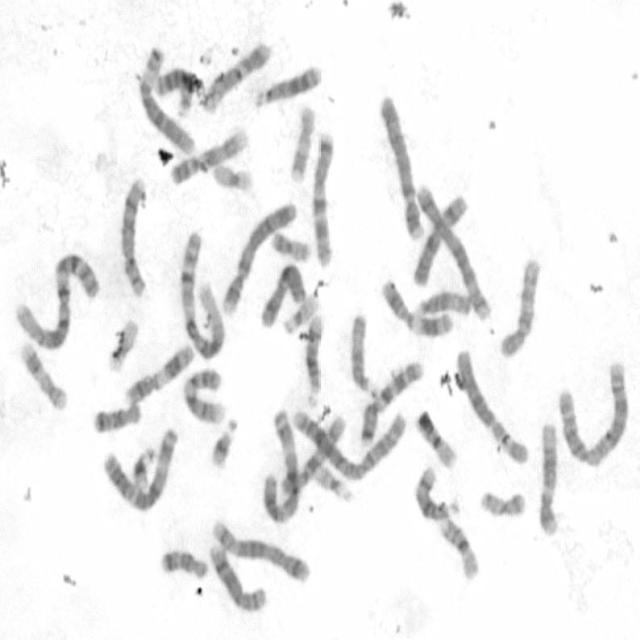A1: (12, 248, 102, 351), (177, 227, 226, 361)
A2: (288, 404, 408, 481), (554, 356, 630, 470)
A3: (99, 422, 180, 514), (258, 405, 301, 525)
B4: (218, 196, 298, 316), (378, 90, 424, 245)
B5: (413, 181, 492, 322), (210, 516, 311, 584)
C10: (278, 411, 348, 496), (496, 252, 542, 359)
C11: (378, 275, 454, 339), (122, 341, 195, 406)
C12: (198, 36, 274, 114), (534, 419, 560, 536)
C6: (453, 346, 530, 466), (136, 42, 197, 156)
C7: (355, 356, 424, 446), (308, 128, 336, 267)
C8: (205, 540, 268, 613), (118, 174, 148, 300)
C9: (168, 126, 250, 186), (180, 364, 227, 424)
D13: (253, 61, 322, 108), (152, 65, 203, 108)
D14: (411, 464, 451, 521), (302, 310, 324, 408)
D15: (348, 310, 373, 396), (414, 286, 474, 318)
E16: (414, 404, 458, 471), (438, 514, 480, 582)
E17: (17, 339, 69, 412), (287, 103, 317, 184)
E18: (158, 544, 209, 582), (91, 398, 142, 435)
F19: (105, 314, 140, 373), (210, 159, 256, 194)
F20: (268, 226, 312, 264), (477, 486, 527, 519)
G21: (208, 413, 240, 471), (128, 442, 156, 490)
G22: (310, 459, 355, 504), (281, 292, 320, 335)
X: (410, 190, 470, 289), (257, 258, 307, 330)
